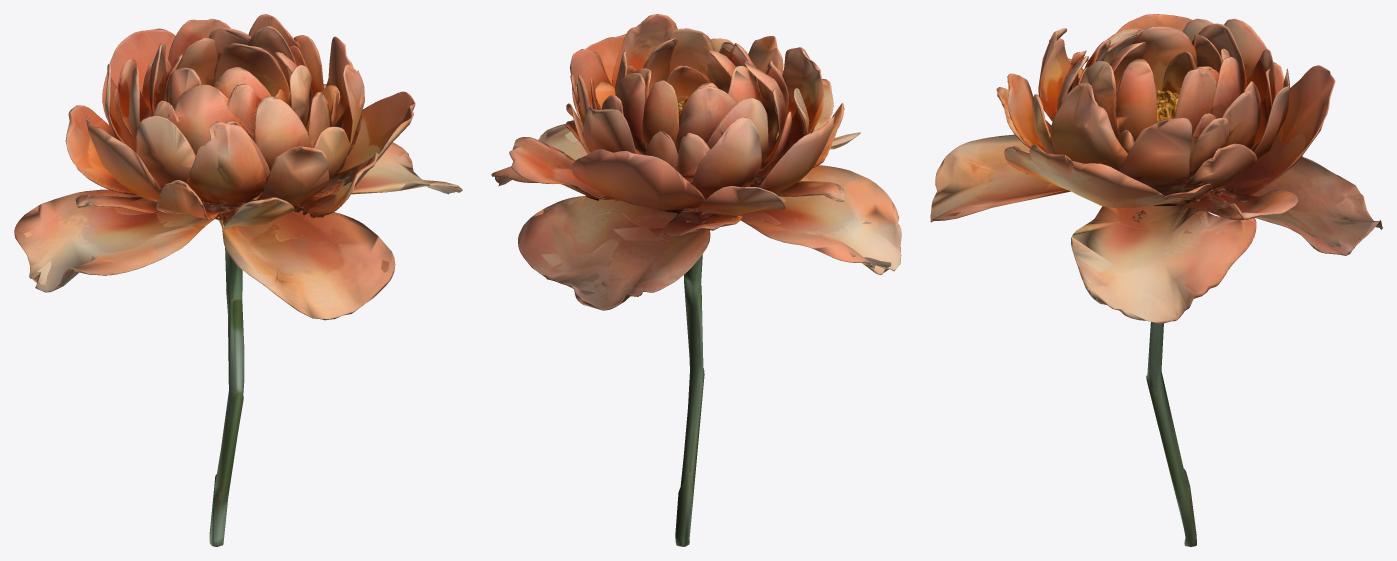
File: radiant_peony.glb
The picture shows the model from 3 angles, left to right: view 1: azimuth 30°, elevation 25°; view 2: azimuth 150°, elevation 25°; view 3: azimuth 270°, elevation 25°; orthographic projection. The views are drawn at different scales.
Size of the model in its own units: 1.68 by 2 by 1.63.
1 material, 1 textured.
